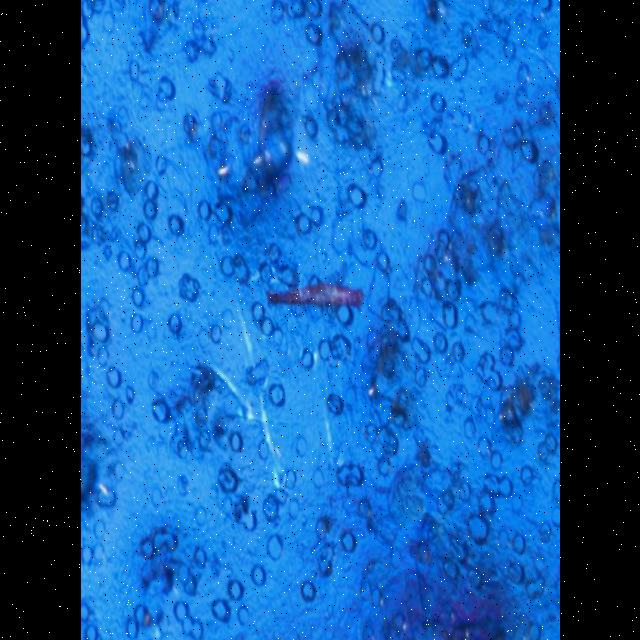Fibre: (255, 266, 373, 336)
